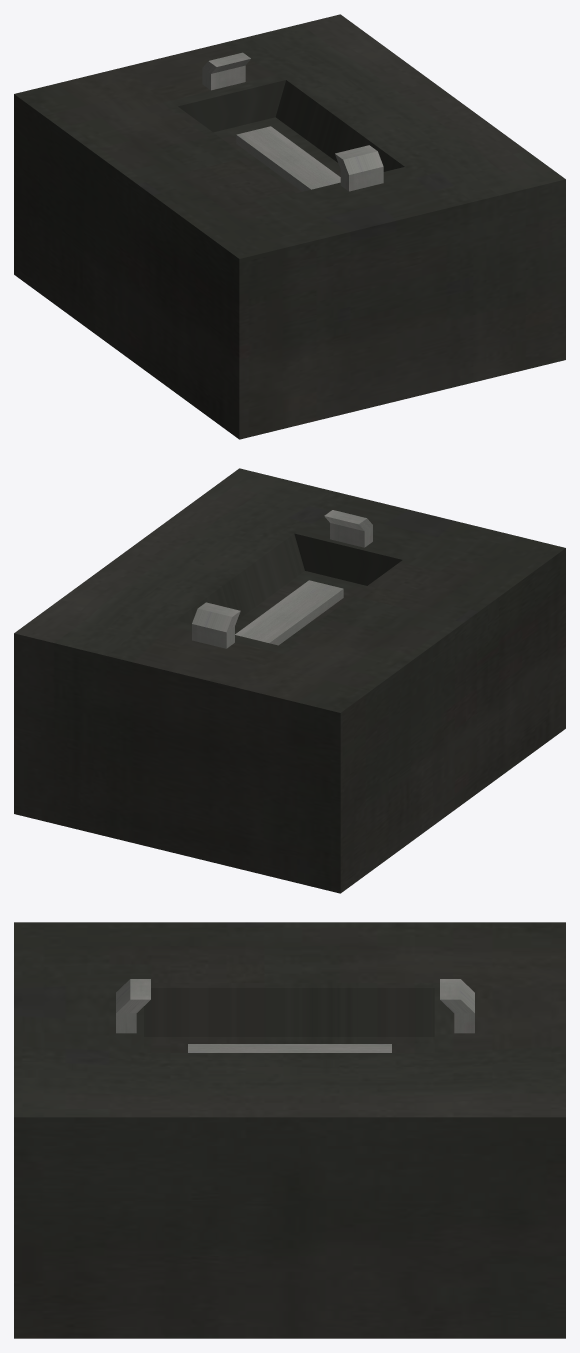
Rendered from fuseCharger.fbx.
3 renders of one model, top to bottom at view 1: azimuth 30°, elevation 25°; view 2: azimuth 150°, elevation 25°; view 3: azimuth 270°, elevation 25°, orthographic. The views are drawn at different scales.
Visible parts, largest first — view 1: box, metalThing, prong1, prong2; view 2: box, metalThing, prong2, prong1; view 3: box, metalThing, prong2, prong1.
Part boxes in pixels (bbox=[...]): box: bbox=[14, 14, 565, 439]; metalThing: bbox=[236, 126, 340, 191]; prong1: bbox=[335, 145, 383, 191]; prong2: bbox=[202, 52, 250, 90]; box: bbox=[14, 468, 565, 893]; metalThing: bbox=[235, 580, 343, 645]; prong2: bbox=[192, 602, 240, 648]; prong1: bbox=[324, 510, 372, 547]; box: bbox=[14, 922, 565, 1338]; metalThing: bbox=[188, 1044, 391, 1052]; prong2: bbox=[440, 979, 474, 1033]; prong1: bbox=[116, 979, 150, 1033].
Size of the model in its own units: 9.42 by 5.74 by 11.26.
Materials: 2 (2 with a texture image).
